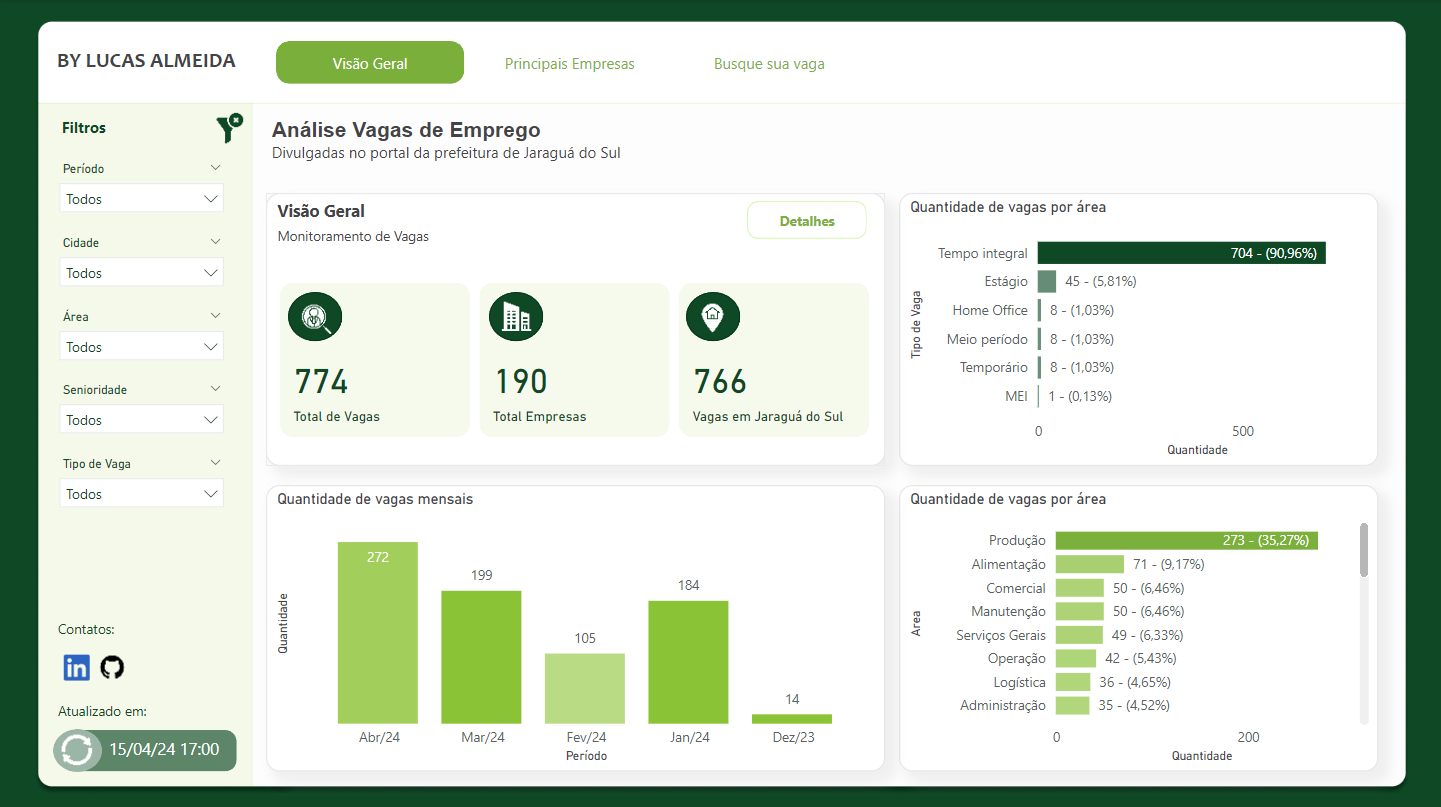

Layout of this report page (visuals, bound fields, positions):
{"tool":"powerbi","page":{"name":"Visão Geral","canvas":[1280,720],"ordinal":0},"visuals":[{"type":"shape","box":[54.2,648.9,154.9,36.7],"z":0,"group":"g3"},{"type":"shape","box":[46.7,648,43.6,38.2],"z":1000,"group":"g3"},{"type":"textbox","box":[50,101,108,33],"z":3000},{"type":"slicer","fields":{"Values":["f_vagas_de_emprego.Cidade"]},"box":[43,205.5,166,66],"z":4000},{"type":"slicer","fields":{"Values":["f_vagas_de_emprego.Senioridade"]},"box":[43,336.5,166,66],"z":5000},{"type":"slicer","fields":{"Values":["f_vagas_de_emprego.Área de Atuação"]},"box":[43,271,166,66],"z":6000},{"type":"slicer","fields":{"Values":["f_vagas_de_emprego.Tipo de Vaga"]},"box":[43,402,166,66],"z":7000},{"type":"clusteredBarChart","title":"Quantidade de vagas por área","fields":{"Y":["💡 medidas.Quantidade"],"Category":["f_vagas_de_emprego.Área de Atuação"]},"box":[797.3,431.8,424.5,253.6],"z":8000},{"type":"clusteredBarChart","title":"Quantidade de vagas por área","fields":{"Y":["💡 medidas.Quantidade"],"Category":["f_vagas_de_emprego.Tipo de Vaga"]},"box":[797.3,172.7,424.5,241.8],"z":9000},{"type":"slicer","fields":{"Values":["d_calendario.MesAnoAtual"]},"box":[43,140,166,66],"z":10000},{"type":"columnChart","title":"Quantidade de vagas mensais","fields":{"Category":["d_calendario.MesAno"],"Y":["💡 medidas.Quantidade"]},"box":[235.5,431.8,549.1,253.6],"z":11000},{"type":"textbox","box":[235.5,100.9,343.6,59.1],"z":12000},{"type":"group","id":"g1","title":"Grupo 5","box":[235.5,172.7,549.1,241.8],"z":13000},{"type":"clusteredBarChart","title":"Visão Geral","fields":{"Y":["💡 medidas.Quantidade"]},"box":[235.5,172.7,549.1,241.8],"z":13000,"group":"g1"},{"type":"cardVisual","fields":{"Data":["💡 medidas.Quantidade","💡 medidas.Quantidade de Empresas","💡 medidas.Vagas Jaraguá"]},"box":[242.8,247.2,535.5,147.3],"z":14000,"group":"g7"},{"type":"group","id":"g2","title":"Grupo 7","box":[41.7,618.2,167.4,68.2],"z":14000},{"type":"group","id":"g3","title":"Grupo 6","box":[46.7,648,162.5,38.2],"z":14000,"group":"g2"},{"type":"pageNavigator","box":[244.5,38.2,521.8,38.2],"z":15000},{"type":"group","id":"g4","title":"Grupo 1","box":[254.8,260.8,48.2,43.6],"z":15000,"group":"g7"},{"type":"image","box":[41.7,648.2,53.6,37.3],"z":15000,"group":"g2"},{"type":"actionButton","box":[662.7,180,106.4,33.6],"z":16000},{"type":"group","id":"g5","title":"Grupo 2","box":[433.6,260.8,48.2,43.6],"z":16000,"group":"g7"},{"type":"card","fields":{"Values":["Min(f_vagas_de_emprego.Created At)"]},"box":[81.9,649.1,127.3,37.3],"z":16000,"group":"g2"},{"type":"shape","box":[254.8,260.8,48.2,43.6],"z":16126,"group":"g4"},{"type":"image","box":[260.3,267.2,40,36.4],"z":16251,"group":"g4"},{"type":"shape","box":[433.6,260.8,48.2,43.6],"z":16376,"group":"g5"},{"type":"shape","box":[608.3,260.8,48.2,43.6],"z":16376,"group":"g6"},{"type":"image","box":[438.1,264.4,40,36.4],"z":16501,"group":"g5"},{"type":"image","box":[612.2,265.7,39.3,36.3],"z":16876,"group":"g6"},{"type":"group","id":"g6","title":"Grupo 3","box":[608.3,260.8,48.2,43.6],"z":16877,"group":"g7"},{"type":"group","id":"g7","title":"Grupo 4","box":[242.8,247.2,535.5,147.3],"z":16878,"group":"g1"},{"type":"textbox","box":[34.5,38.2,190,38.2],"z":17000},{"type":"textbox","box":[46.4,618.2,162.7,27.3],"z":17000,"group":"g2"},{"type":"textbox","box":[46.2,545.2,162.1,27.5],"z":18000},{"type":"image","box":[50.5,577.2,35.5,32.8],"z":19000},{"type":"image","box":[82.5,577.2,34.6,31.9],"z":20000},{"type":"image","box":[185.7,95.3,37.3,40.3],"z":20001}]}

Visuals, with their boxes in screenshot pixels (x1, y1, x2, y2), scaled from the page's 1280x720 canvas onto the 1441x807 screenshot:
shape: rect(61, 727, 235, 768)
shape: rect(53, 726, 102, 769)
textbox: rect(56, 113, 178, 150)
slicer - f_vagas_de_emprego.Cidade: rect(48, 230, 235, 304)
slicer - f_vagas_de_emprego.Senioridade: rect(48, 377, 235, 451)
slicer - f_vagas_de_emprego.Área de Atuação: rect(48, 304, 235, 378)
slicer - f_vagas_de_emprego.Tipo de Vaga: rect(48, 451, 235, 525)
"Quantidade de vagas por área" clusteredBarChart: rect(898, 484, 1375, 768)
"Quantidade de vagas por área" clusteredBarChart: rect(898, 194, 1375, 465)
slicer - d_calendario.MesAnoAtual: rect(48, 157, 235, 231)
"Quantidade de vagas mensais" columnChart: rect(265, 484, 883, 768)
textbox: rect(265, 113, 652, 179)
"Grupo 5" group: rect(265, 194, 883, 465)
"Visão Geral" clusteredBarChart: rect(265, 194, 883, 465)
cardVisual - 💡 medidas.Quantidade x 💡 medidas.Quantidade de Empresas: rect(273, 277, 876, 442)
"Grupo 7" group: rect(47, 693, 235, 769)
"Grupo 6" group: rect(53, 726, 236, 769)
pageNavigator: rect(275, 43, 863, 86)
"Grupo 1" group: rect(287, 292, 341, 341)
image: rect(47, 727, 107, 768)
actionButton: rect(746, 202, 866, 239)
"Grupo 2" group: rect(488, 292, 542, 341)
card - Min(f_vagas_de_emprego.Created At): rect(92, 728, 236, 769)
shape: rect(287, 292, 341, 341)
image: rect(293, 299, 338, 340)
shape: rect(488, 292, 542, 341)
shape: rect(685, 292, 739, 341)
image: rect(493, 296, 538, 337)
image: rect(689, 298, 733, 338)
"Grupo 3" group: rect(685, 292, 739, 341)
"Grupo 4" group: rect(273, 277, 876, 442)
textbox: rect(39, 43, 253, 86)
textbox: rect(52, 693, 235, 723)
textbox: rect(52, 611, 235, 642)
image: rect(57, 647, 97, 684)
image: rect(93, 647, 132, 683)
image: rect(209, 107, 251, 152)
